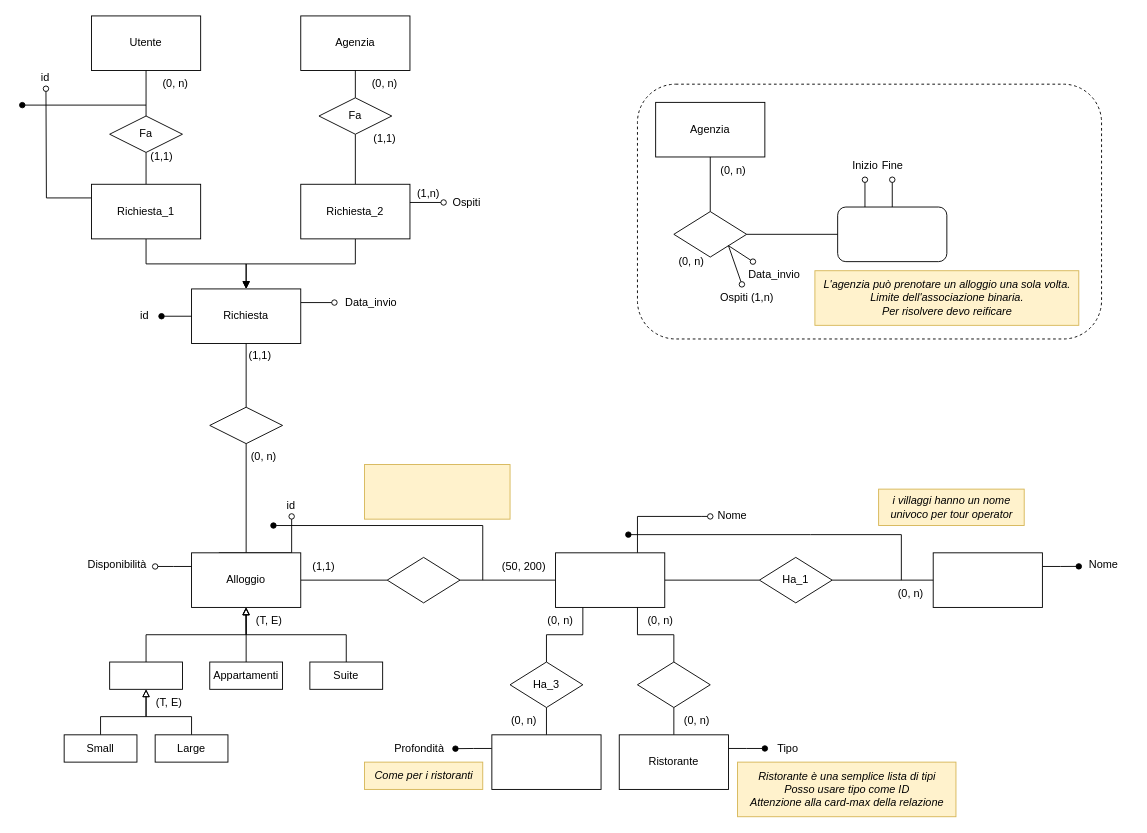
This 1147x833 diagram has some shape labels left out. Here are the shapes that lost their labels. From the top down, the centre of each, then its label:
the point at 710,234: Richiede_2
the point at 892,234: Pernottamento
the point at 246,425: Per
the point at 437,491: Può essere assoluto per tutto il portale, oppure legato al villaggio
the point at 423,579: Dispone
the point at 610,579: Villaggio
the point at 987,579: Tour operator
the point at 145,675: Stanze
the point at 673,684: Ha_2
the point at 546,761: Piscina
